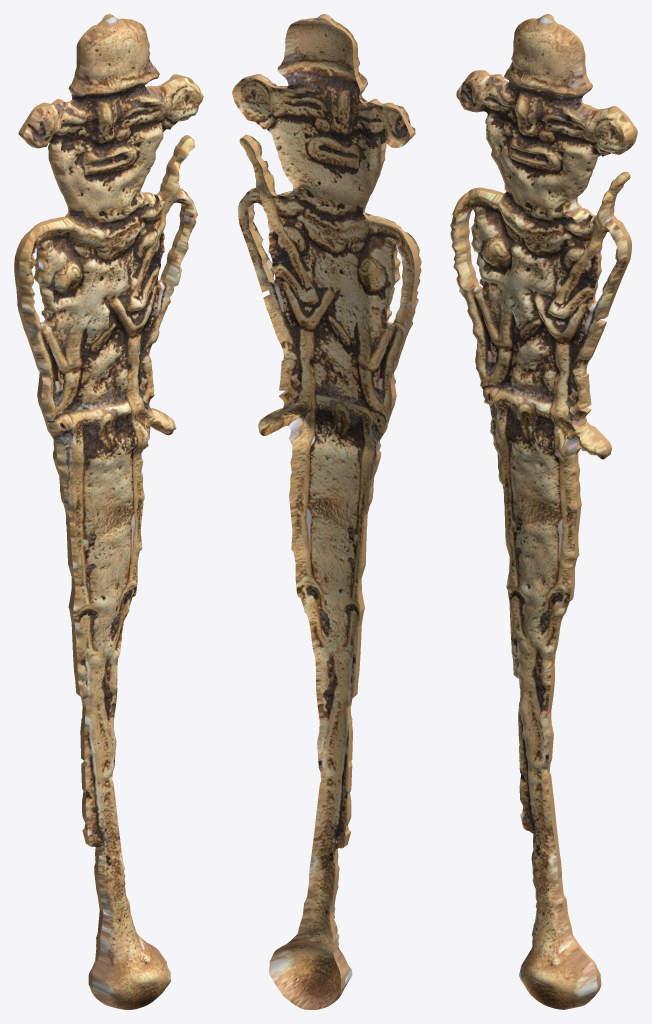
Rendered from figura_masculina_tunjo_2000.glb.
The picture shows the model from 3 angles, left to right: view 1: azimuth 30°, elevation 25°; view 2: azimuth 150°, elevation 25°; view 3: azimuth 330°, elevation 25°; orthographic projection.
Visible parts, largest first — view 1: figura_masculina_tunjo_2000; view 2: figura_masculina_tunjo_2000; view 3: figura_masculina_tunjo_2000.
Part boxes in pixels (bbox=[...]): figura_masculina_tunjo_2000: bbox=[14, 14, 203, 1009]; figura_masculina_tunjo_2000: bbox=[232, 14, 421, 1009]; figura_masculina_tunjo_2000: bbox=[450, 14, 637, 1009].
Size of the model in its own units: 2.07 by 10.8 by 0.4955.
1 material, 1 textured.
